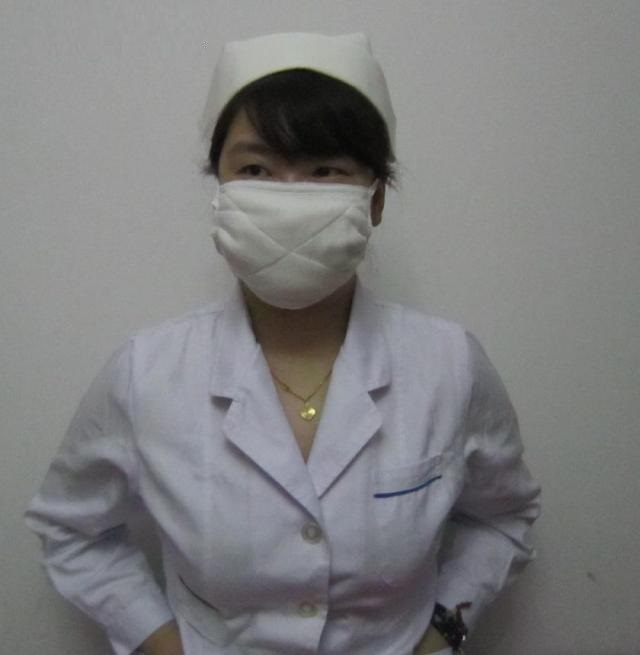face_mask: (212, 102, 373, 294)
